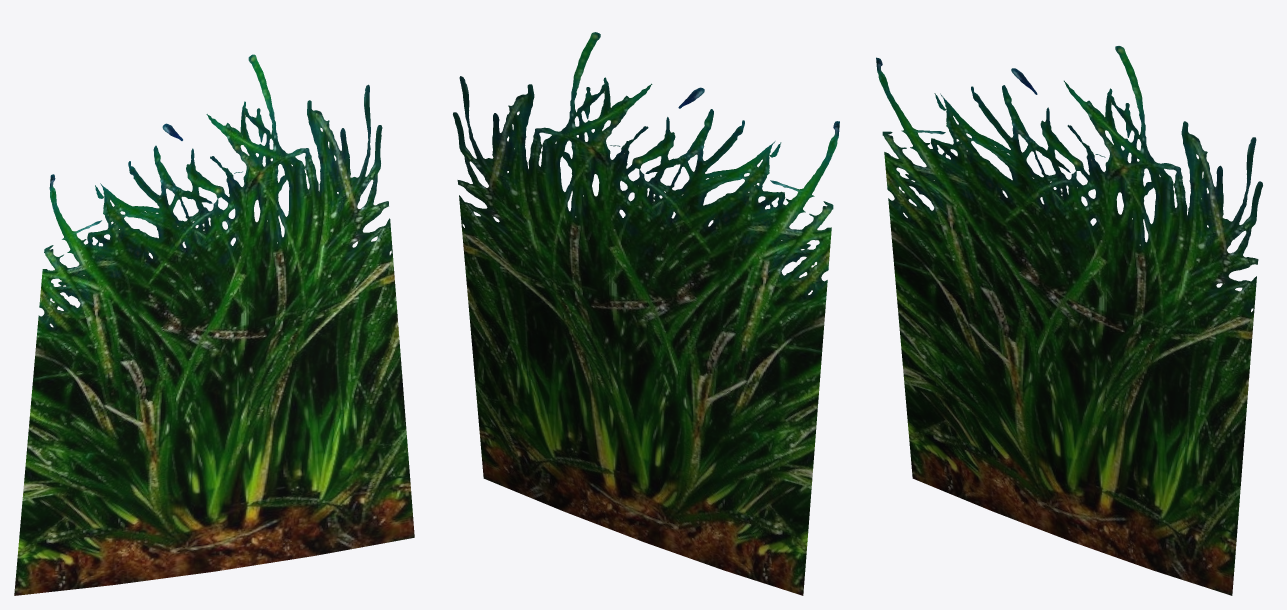
File: posidoniaAnim 1.fbx
3 renders of one model, left to right at view 1: azimuth 30°, elevation 25°; view 2: azimuth 150°, elevation 25°; view 3: azimuth 330°, elevation 25°, orthographic.
Parts seen in each view (by area): view 1: Plane; view 2: Plane; view 3: Plane.
Boxes of the visible parts, x1,y1,x2,y2 form: Plane: (14, 54, 414, 595); Plane: (453, 32, 839, 595); Plane: (876, 46, 1262, 595).
Size of the model in its own units: 200 by 267 by 38.91.
Materials: 1 (1 with a texture image).
